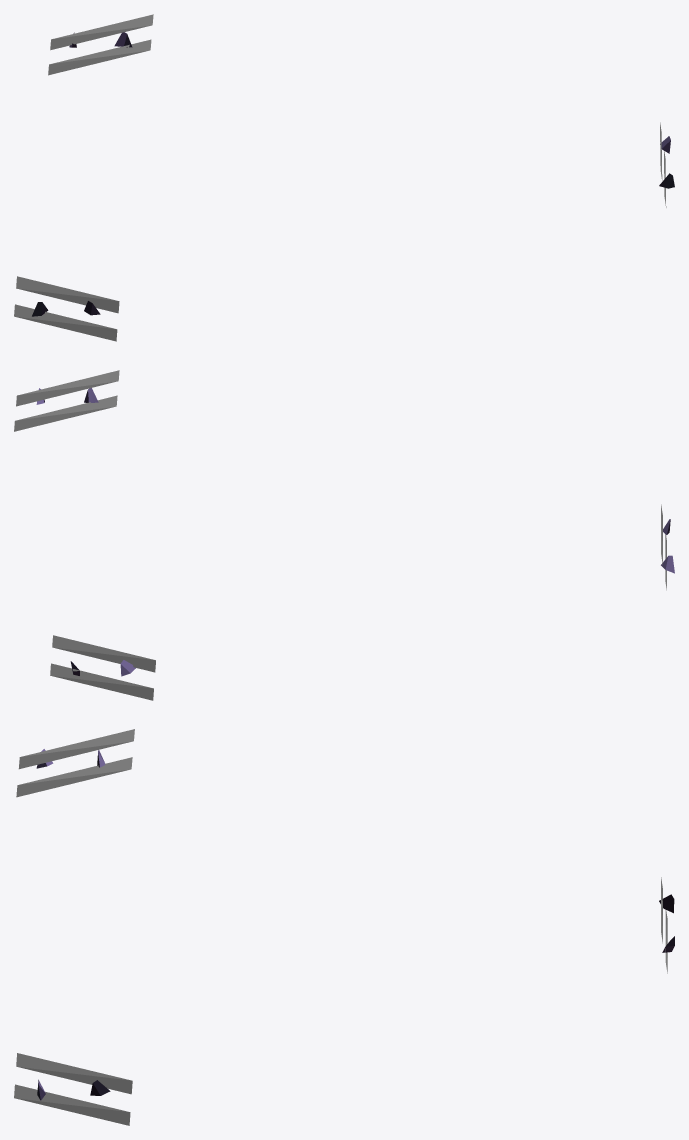
The model's file is vein_rock_c_mined_obsidian_low.glb.
3 renders of one model, top to bottom at view 1: azimuth 30°, elevation 25°; view 2: azimuth 150°, elevation 25°; view 3: azimuth 270°, elevation 25°, orthographic. The views are drawn at different scales.
Bounding box in the file's own units: 1.4 × 0.0784 × 1.09.
